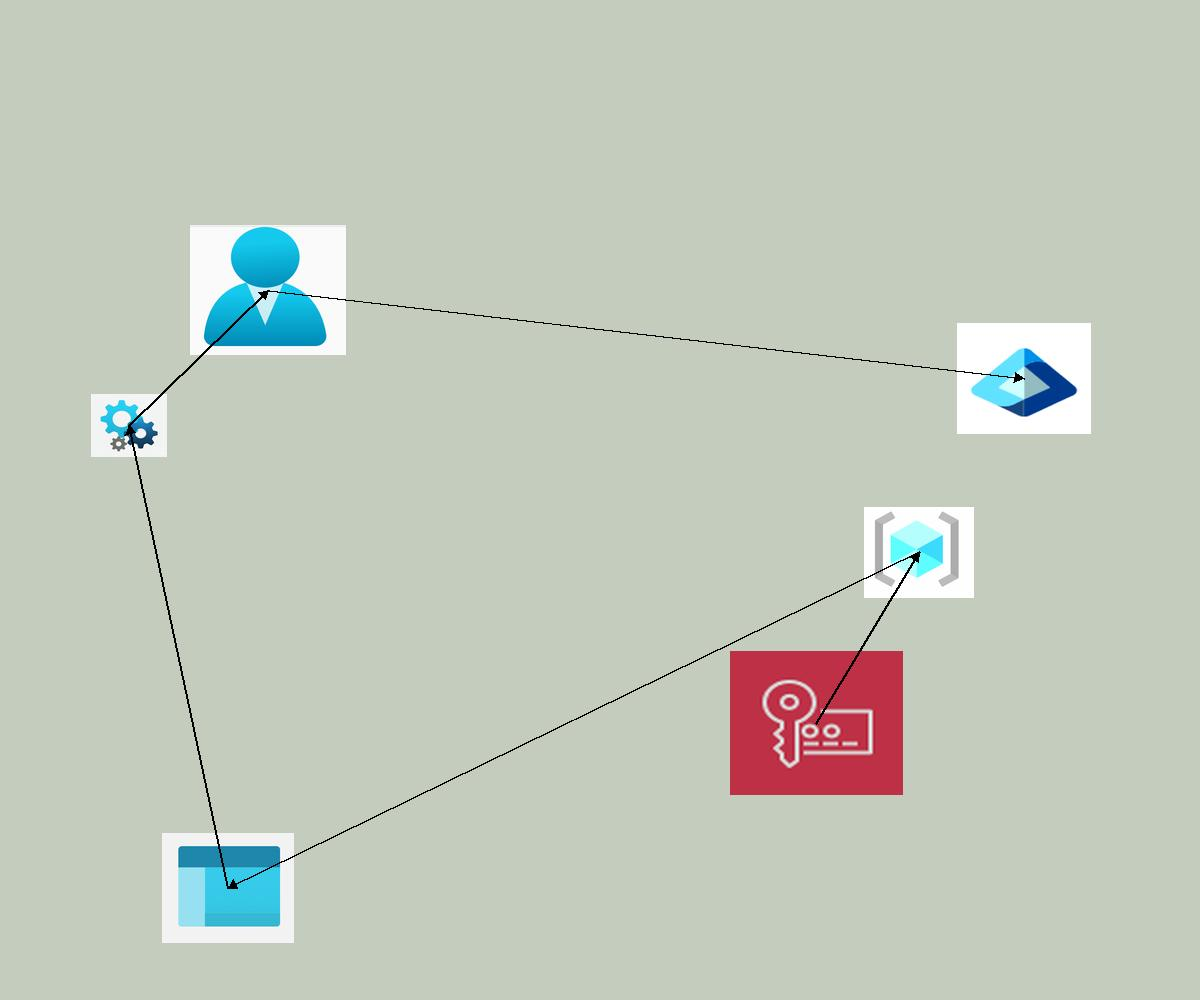AWS-Key-Management-Service: (730, 651, 903, 795)
Azure_api: (91, 394, 167, 457)
Azure_management-portal: (162, 833, 294, 943)
Azure_microsoft_entra: (957, 323, 1091, 434)
Azure_resource_group: (864, 507, 974, 598)
Azure_users: (190, 225, 346, 355)
